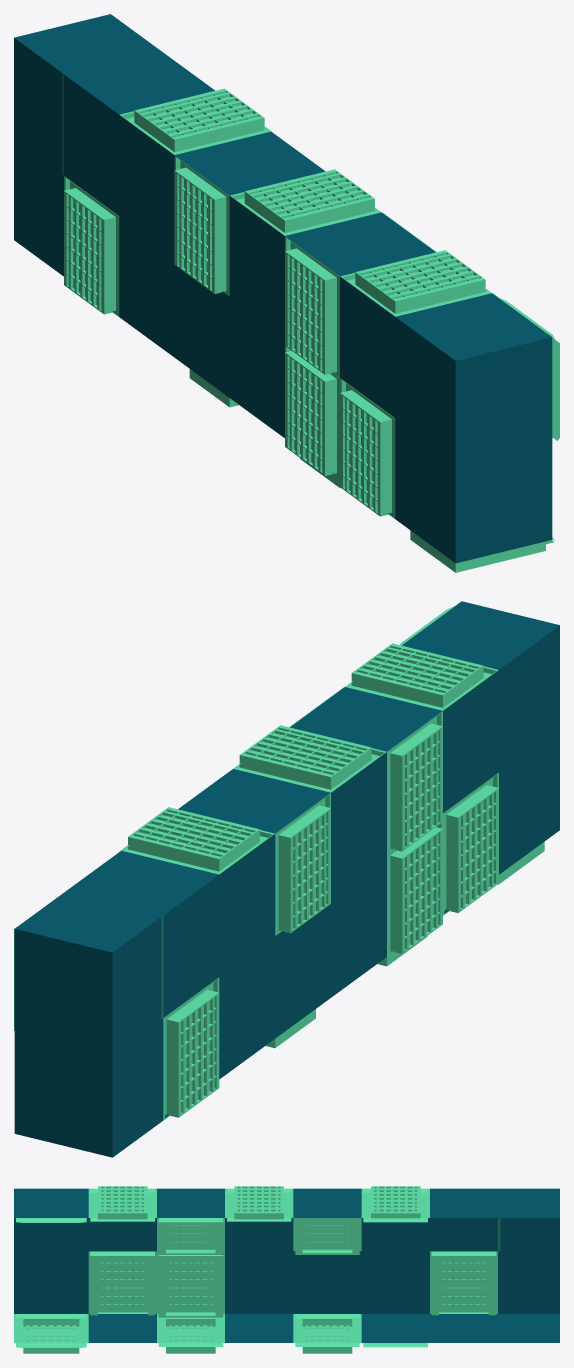
File: predio_futurista3_ao_meio.fbx
The picture shows the model from 3 angles, top to bottom: view 1: azimuth 30°, elevation 25°; view 2: azimuth 150°, elevation 25°; view 3: azimuth 270°, elevation 25°; orthographic projection. The views are drawn at different scales.
Parts seen in each view (by area): view 1: Cube; view 2: Cube; view 3: Cube.
Boxes of the visible parts, x1,y1,x2,y2 form: Cube: [14, 14, 559, 572]; Cube: [14, 601, 559, 1157]; Cube: [14, 1186, 559, 1353].
Size of the model in its own units: 116 by 224 by 791.
Materials: 1 (1 with a texture image).
